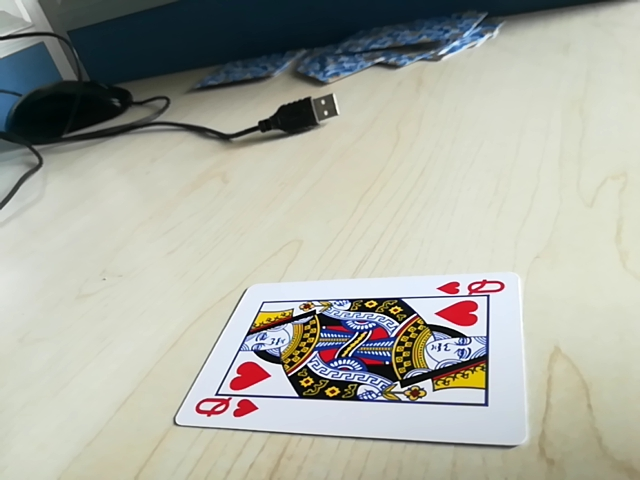hx q: (190, 395, 263, 424), (435, 275, 509, 299)
